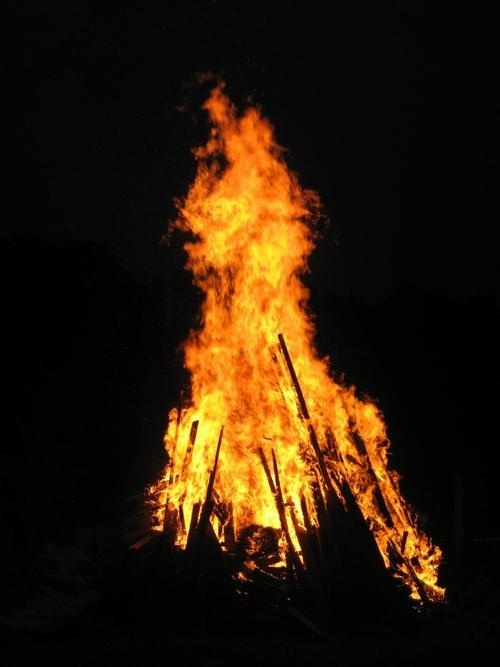fire: (120, 49, 423, 581)
